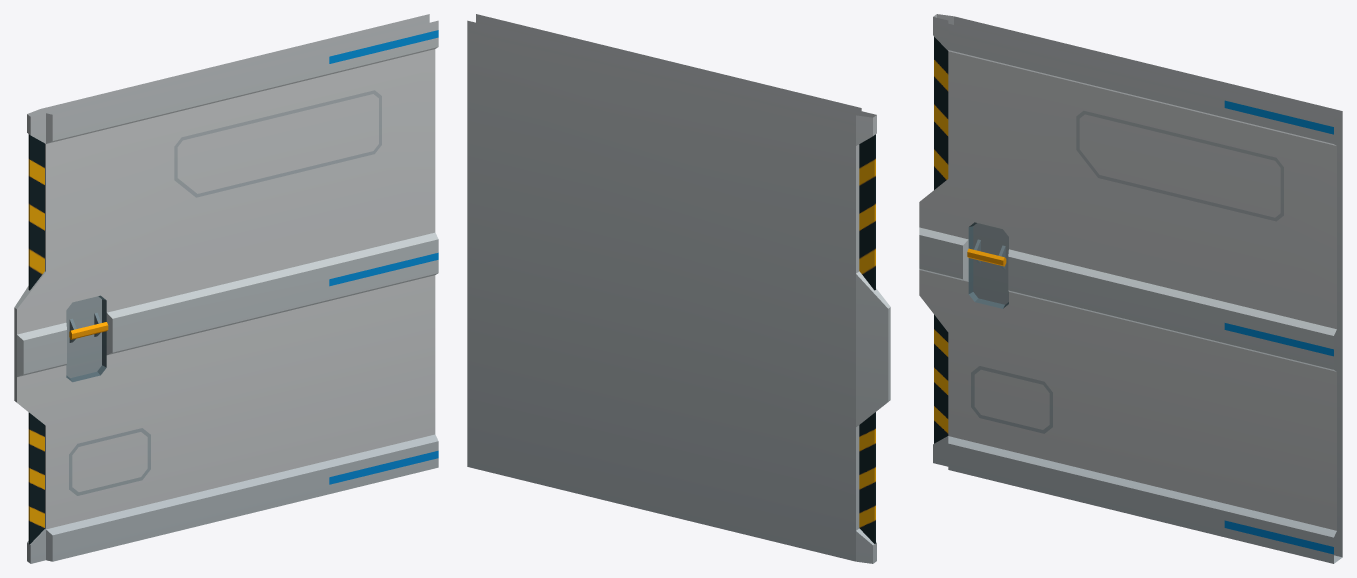
Rendered from Door_panel_017.fbx.
The picture shows the model from 3 angles, left to right: view 1: azimuth 30°, elevation 25°; view 2: azimuth 150°, elevation 25°; view 3: azimuth 330°, elevation 25°; orthographic projection.
Visible parts, largest first — view 1: Door_panel_017; view 2: Door_panel_017; view 3: Door_panel_017.
Boxes of the visible parts, x1,y1,x2,y2 form: Door_panel_017: [14, 14, 438, 563]; Door_panel_017: [467, 14, 890, 563]; Door_panel_017: [919, 14, 1342, 563].
Size of the model in its own units: 284 by 10.99 by 290.
